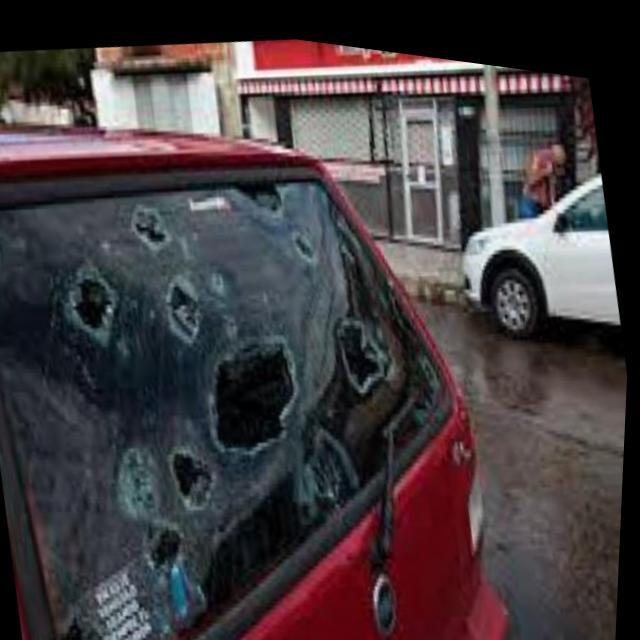glass shatter: (0, 157, 462, 640)
